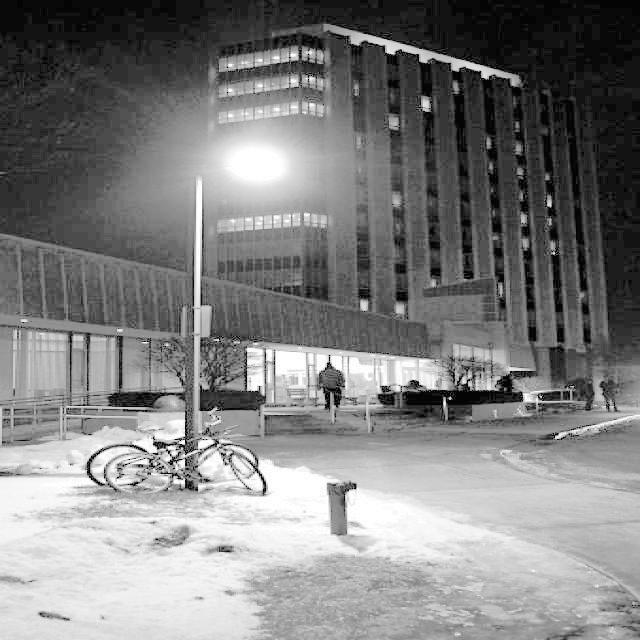Bicycle: (106, 417, 268, 500)
